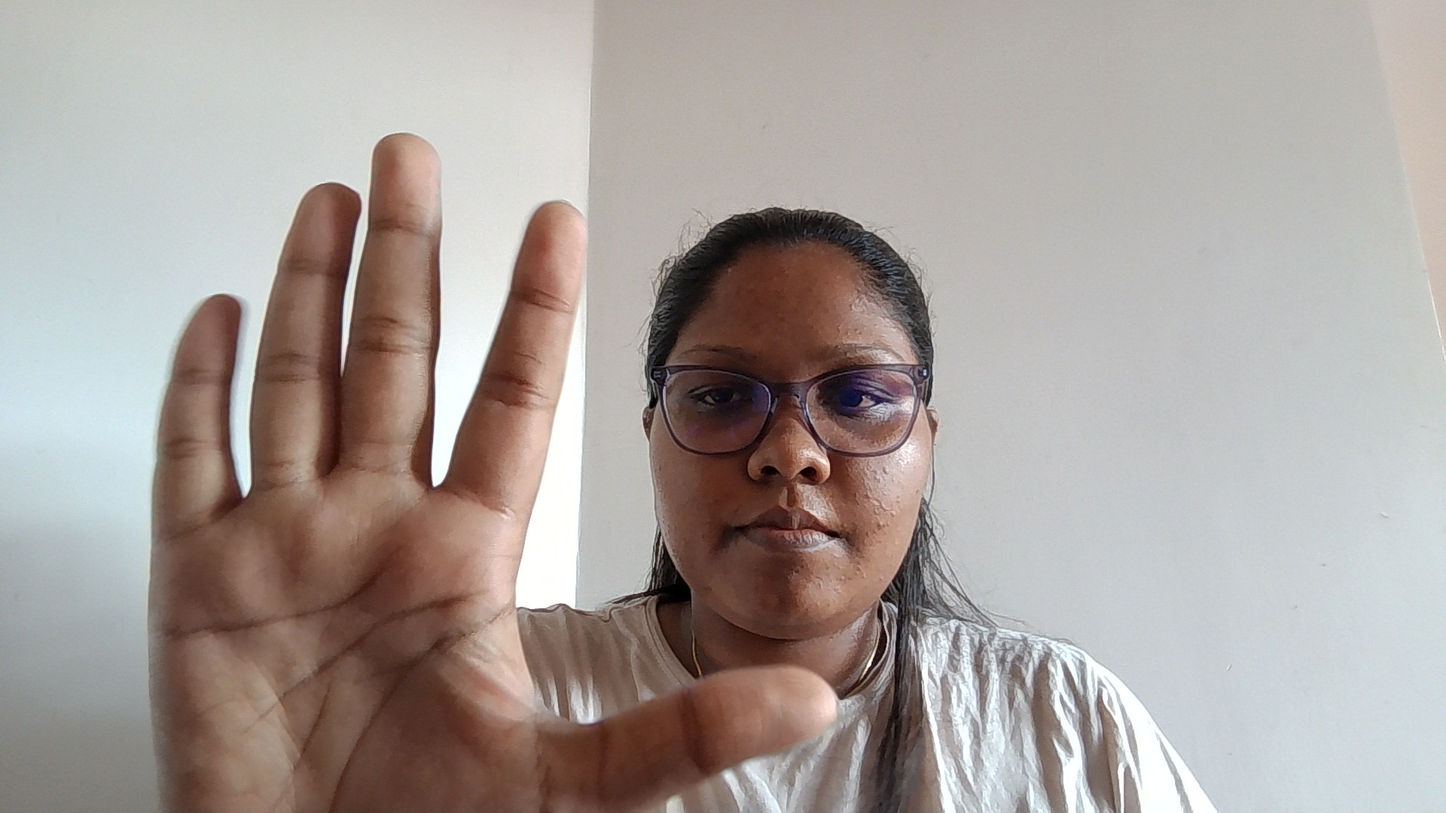Hello: (32, 149, 828, 808)
